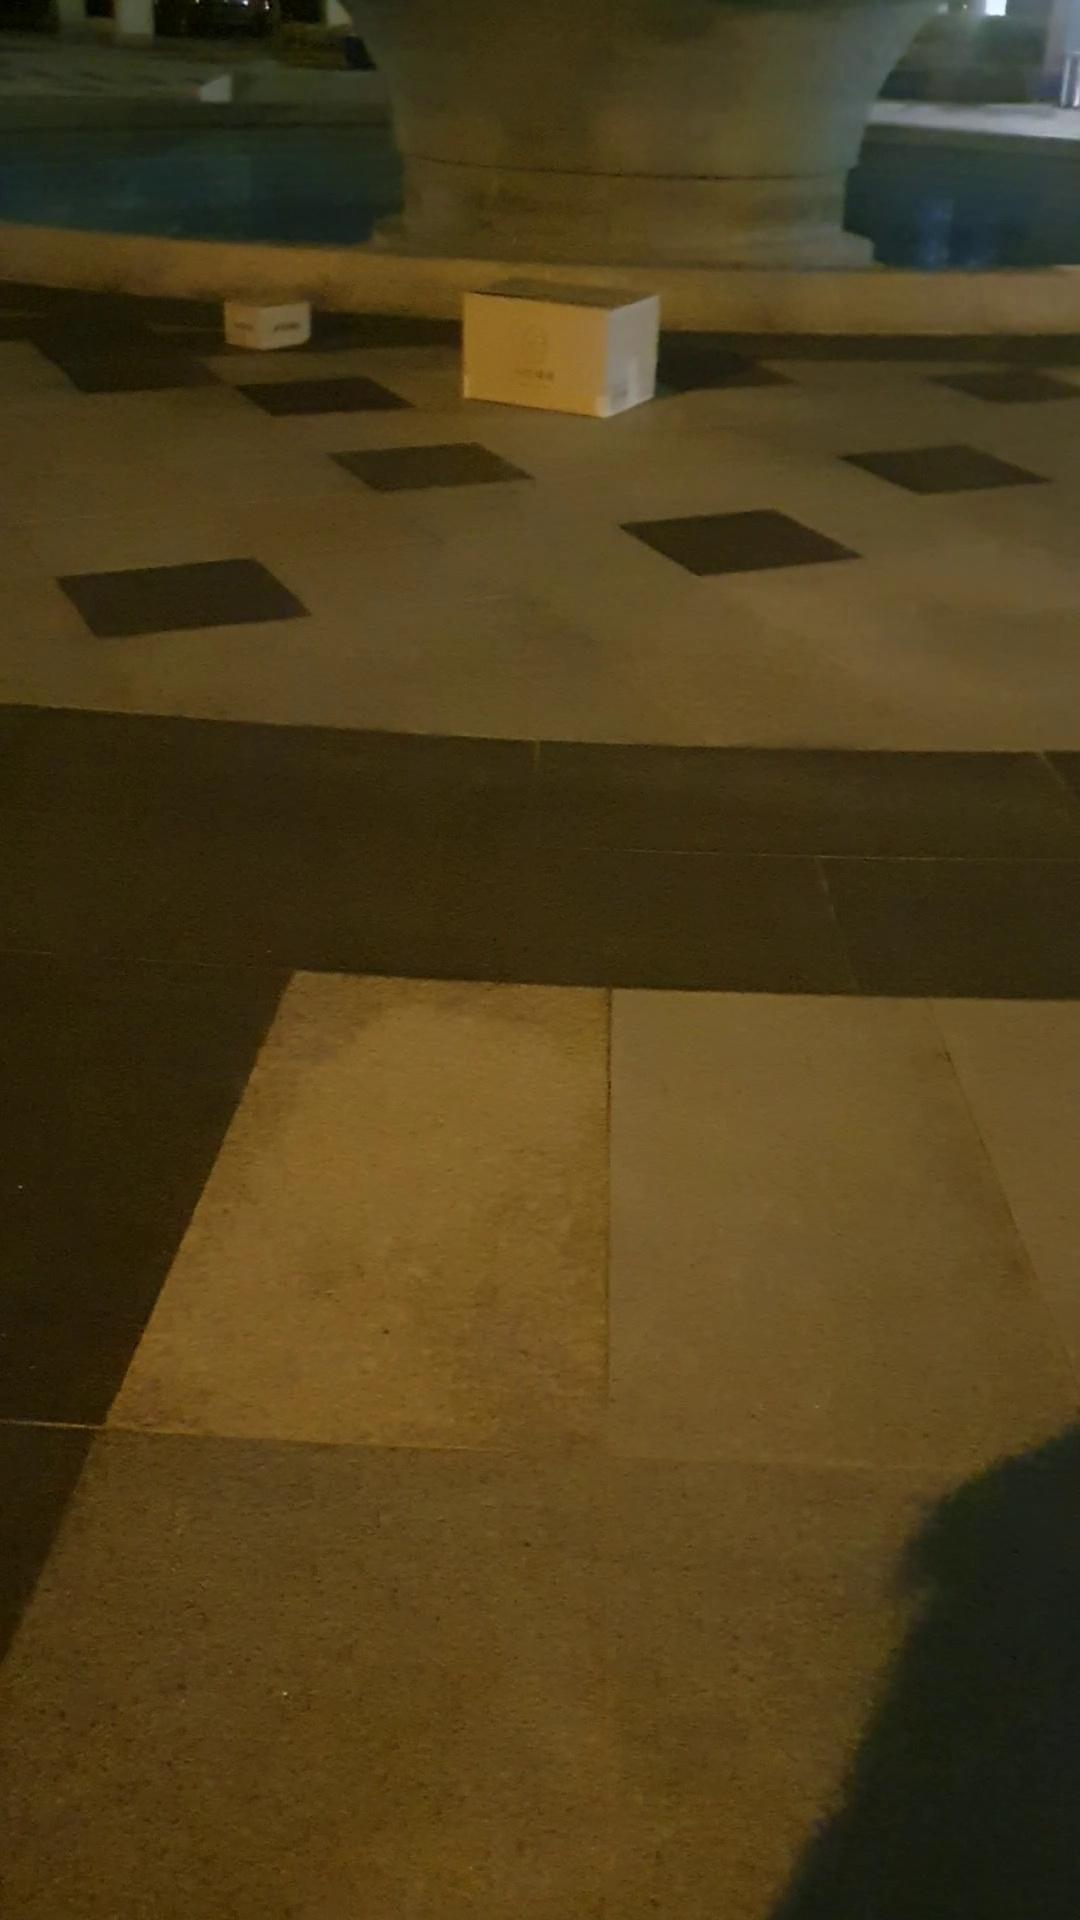Box: (443, 265, 665, 422), (208, 287, 322, 355)
